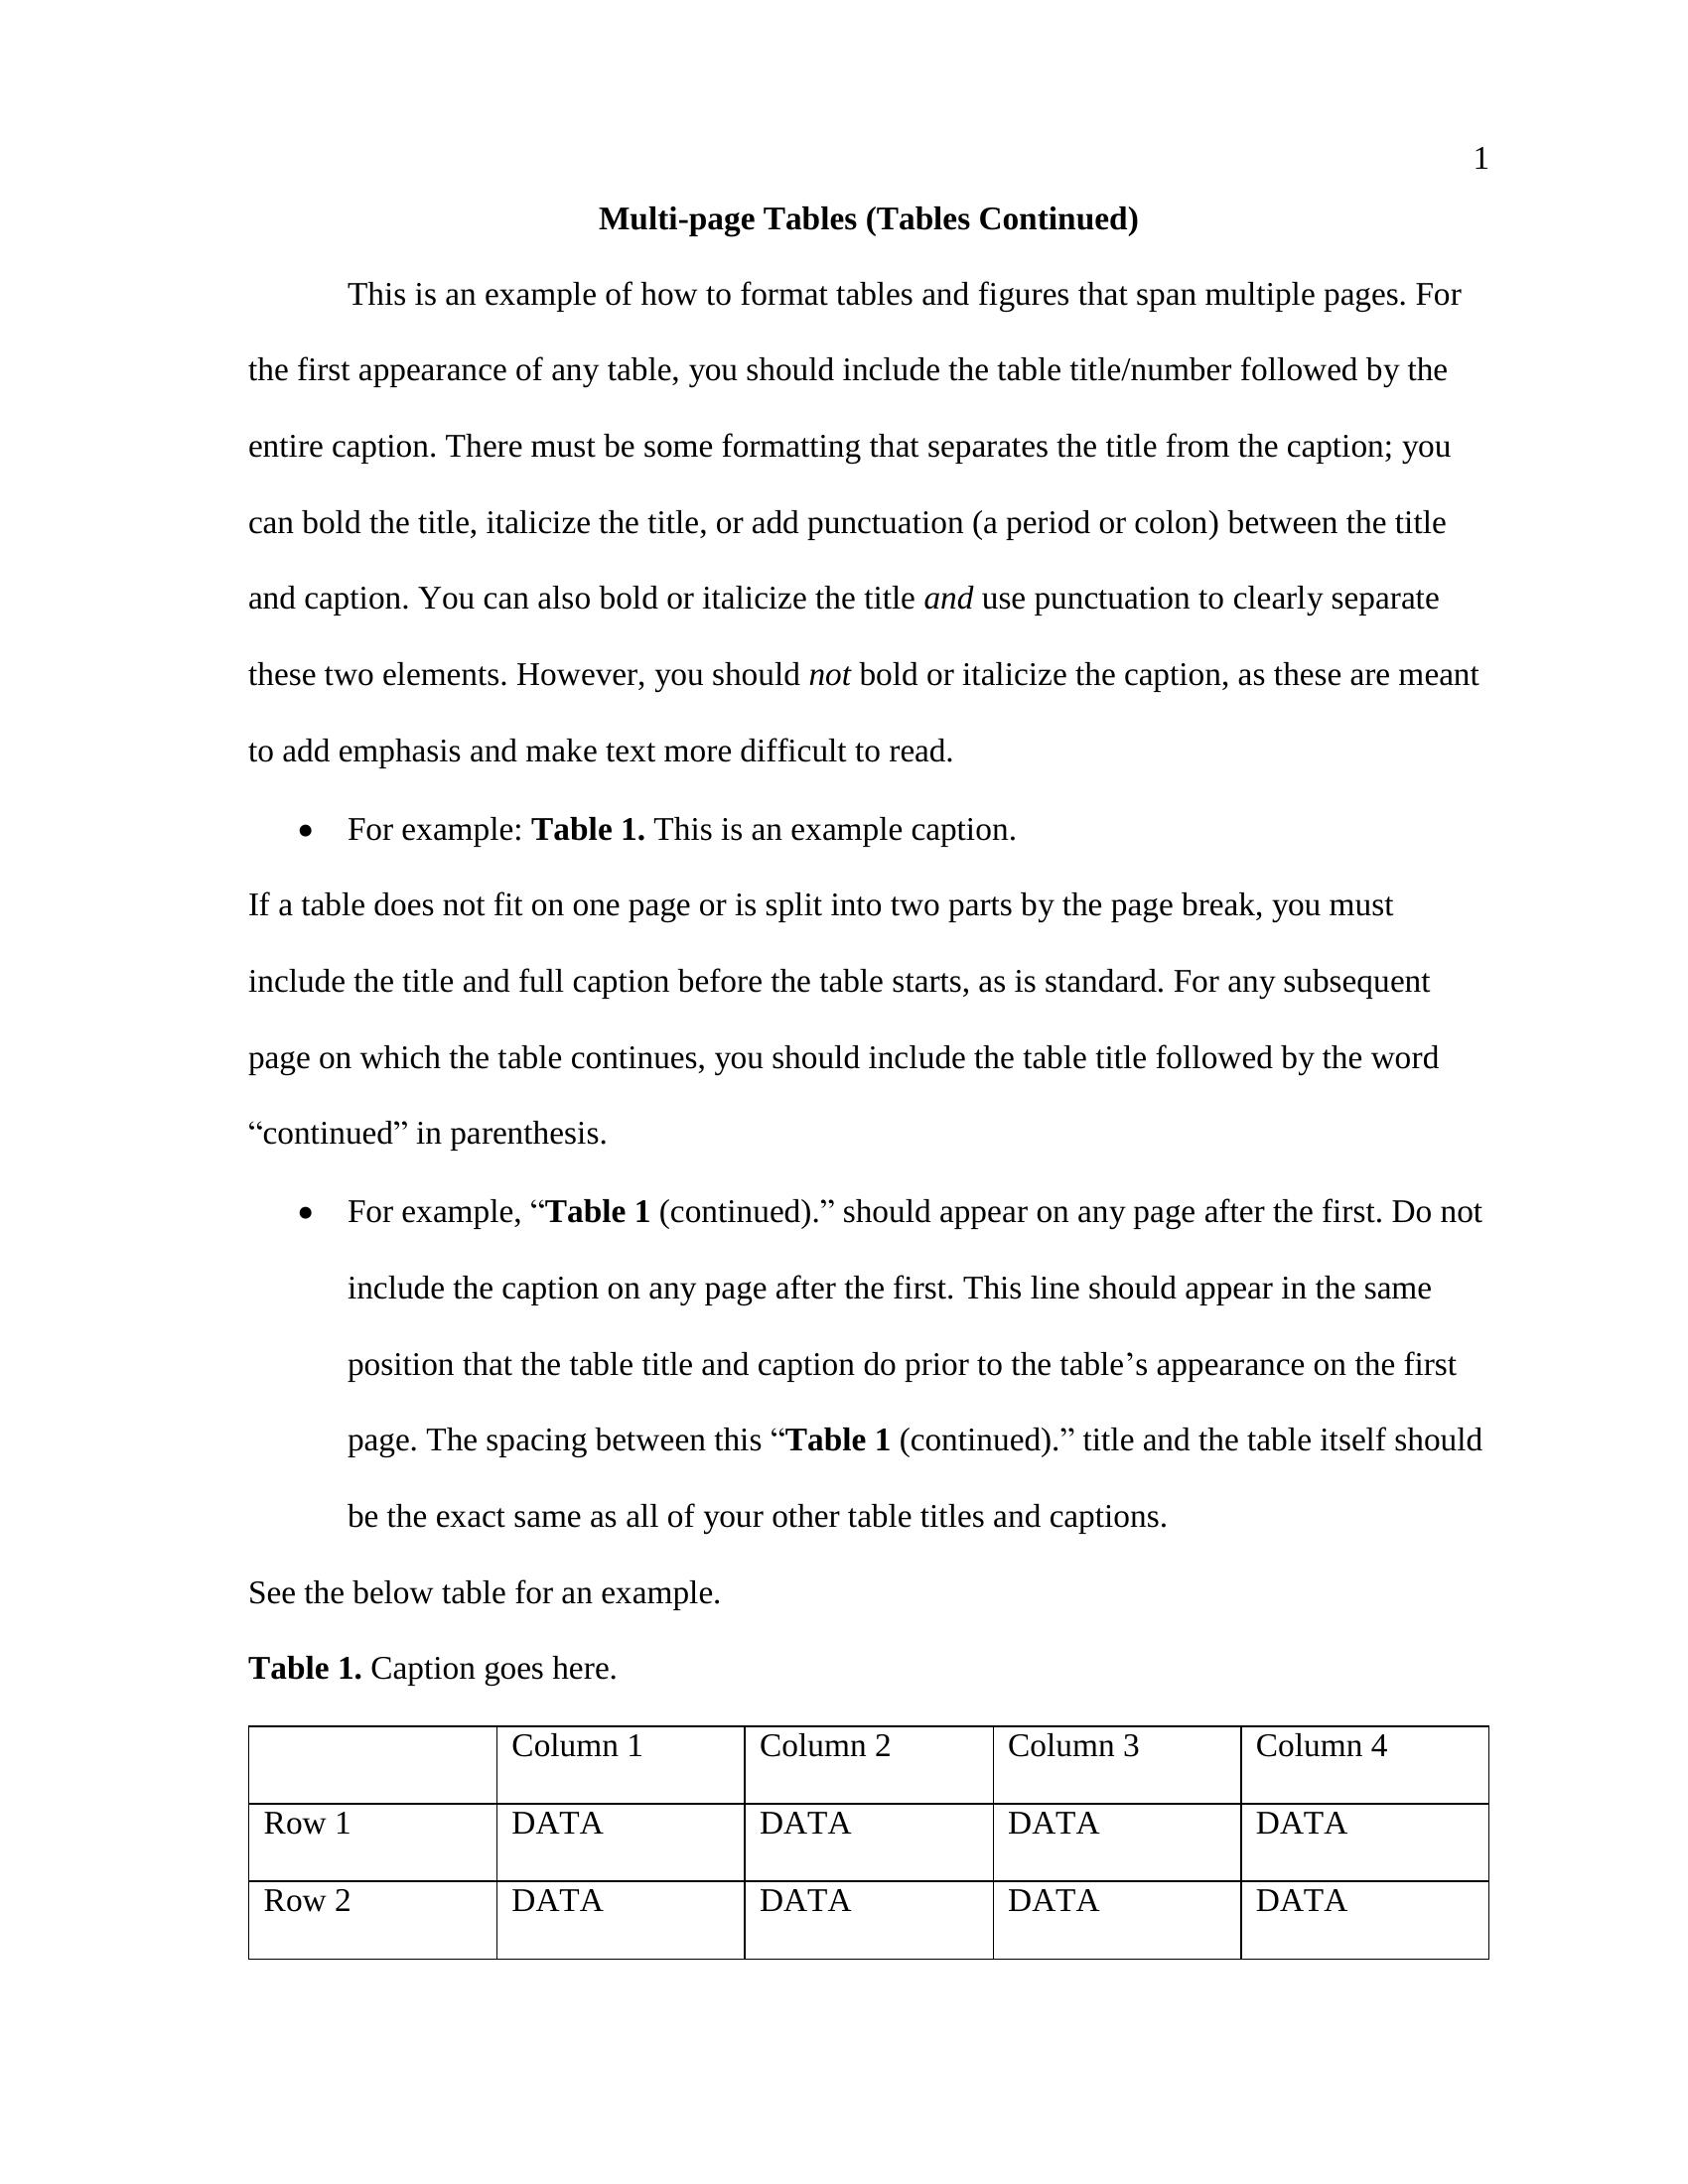table: (243, 1720, 1502, 1968)
